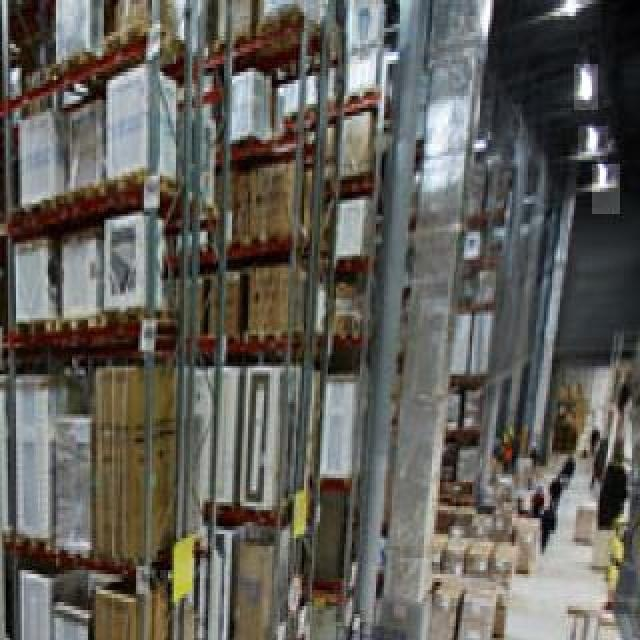fluorescent tube: (574, 51, 606, 104), (565, 120, 600, 156), (595, 162, 620, 193)
